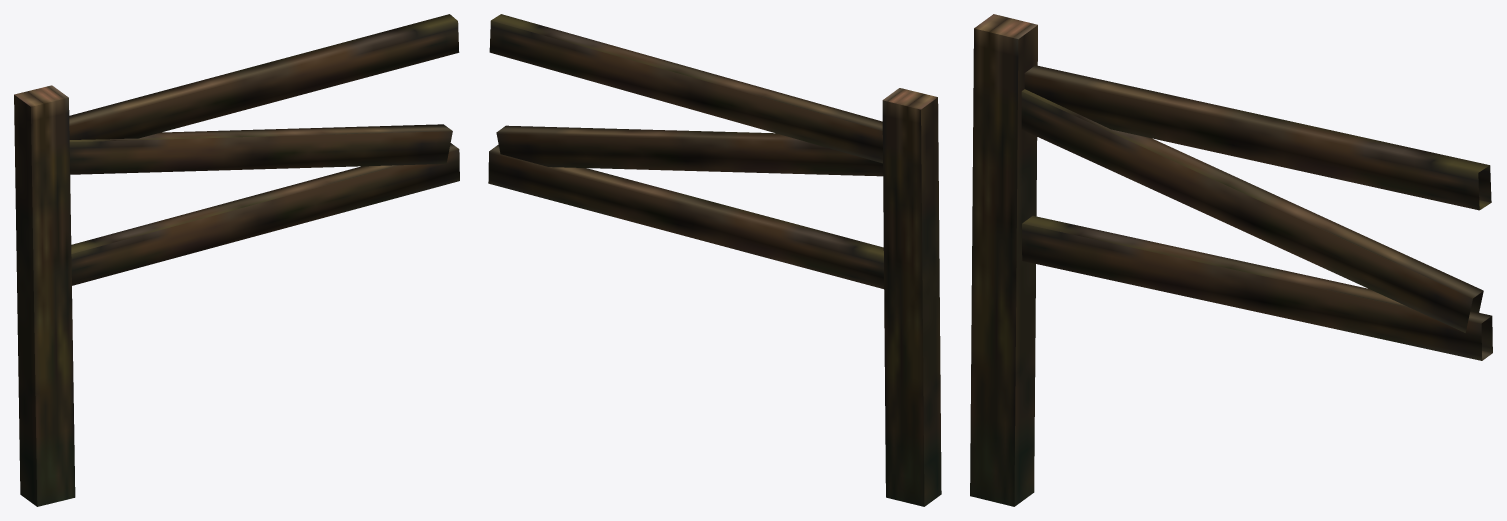
The model's file is general_obj_fence05_01.fbx.
The picture shows the model from 3 angles, left to right: view 1: azimuth 30°, elevation 25°; view 2: azimuth 150°, elevation 25°; view 3: azimuth 330°, elevation 25°; orthographic projection. The views are drawn at different scales.
Parts seen in each view (by area): view 1: Sphere01; view 2: Sphere01; view 3: Sphere01.
Part boxes in pixels (box(x1,y1,x2,y2)): Sphere01: box(14, 14, 459, 506); Sphere01: box(488, 14, 941, 506); Sphere01: box(970, 14, 1492, 506).
Bounding box in the file's own units: 2.44 × 2.14 × 0.213.
